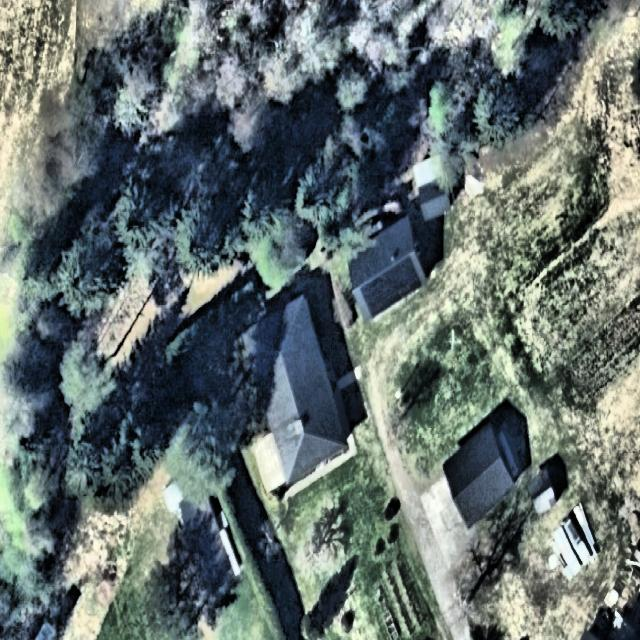roof_pv: (358, 274, 394, 321), (388, 255, 421, 301)
